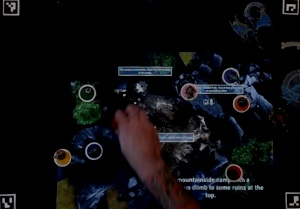green: (82, 140, 105, 162), (75, 83, 96, 103)
orange: (230, 92, 253, 113)
pink: (179, 81, 199, 99)
red: (224, 161, 245, 184)
violet: (221, 66, 241, 86)
yellow: (49, 147, 75, 167)
